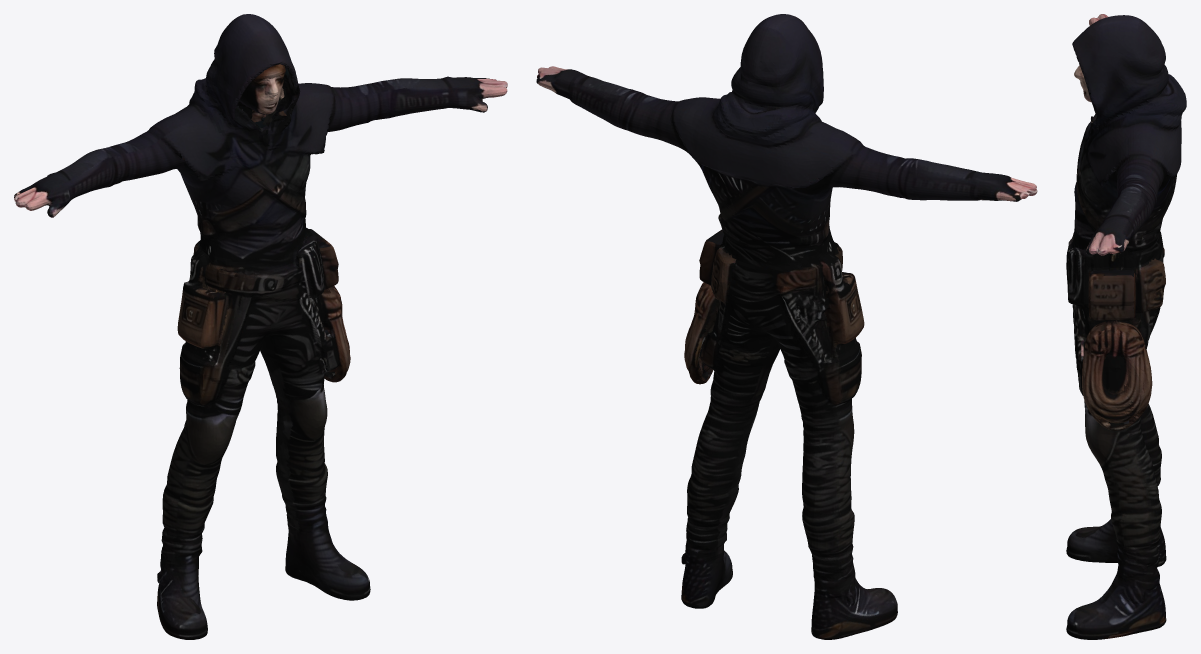
Rendered from sneaker_fast.obj.
3 renders of one model, left to right at view 1: azimuth 30°, elevation 25°; view 2: azimuth 150°, elevation 25°; view 3: azimuth 270°, elevation 25°, orthographic. The views are drawn at different scales.
Visible parts, largest first — view 1: sneaker_fast; view 2: sneaker_fast; view 3: sneaker_fast.
Part boxes in pixels (left/top/right/bottom): sneaker_fast: left=14, top=14, right=507, bottom=639; sneaker_fast: left=536, top=14, right=1037, bottom=639; sneaker_fast: left=1066, top=14, right=1186, bottom=639.
Bounding box in the file's own units: 1.76 × 1.99 × 0.3769.
1 material, 1 textured.
